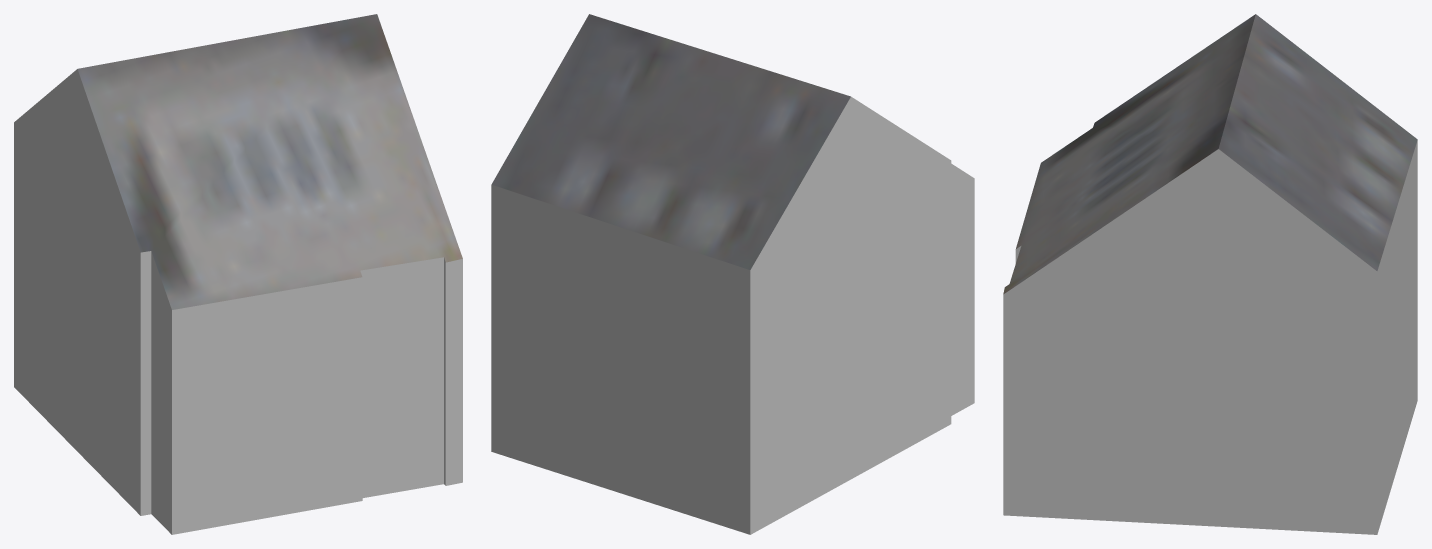
The model's file is DEBW_0010007Tx4p.gltf.
3 renders of one model, left to right at view 1: azimuth 30°, elevation 25°; view 2: azimuth 150°, elevation 25°; view 3: azimuth 270°, elevation 25°, orthographic.
Parts seen in each view (by area): view 1: Z_UP; view 2: Z_UP; view 3: Z_UP.
Boxes of the visible parts, x1,y1,x2,y2 form: Z_UP: (14,14,462,534); Z_UP: (491,14,974,534); Z_UP: (1003,14,1417,534).
Bounding box in the file's own units: 9.28 × 10.73 × 10.67.
Materials: 2 (1 with a texture image).
